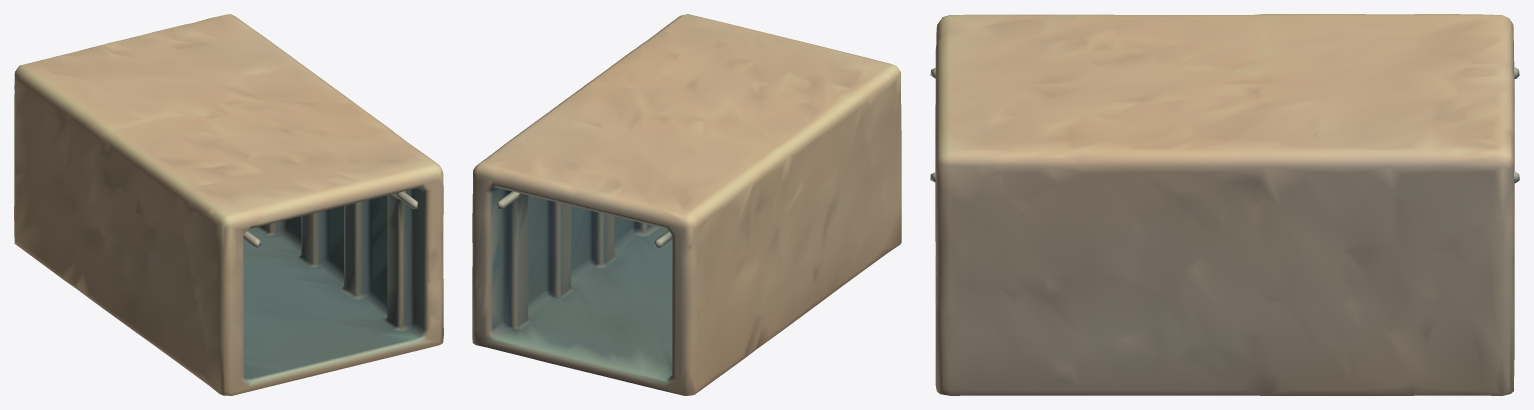
Rendered from env_co_corridor.glb.
3 renders of one model, left to right at view 1: azimuth 30°, elevation 25°; view 2: azimuth 150°, elevation 25°; view 3: azimuth 270°, elevation 25°, orthographic. The views are drawn at different scales.
Parts seen in each view (by area): view 1: geometry_0; view 2: geometry_0; view 3: geometry_0.
Part boxes in pixels (x1,y1,x2,y2): geometry_0: (14, 14, 443, 395); geometry_0: (472, 14, 901, 395); geometry_0: (930, 14, 1519, 395).
Size of the model in its own units: 4.82 by 3.68 by 8.16.
